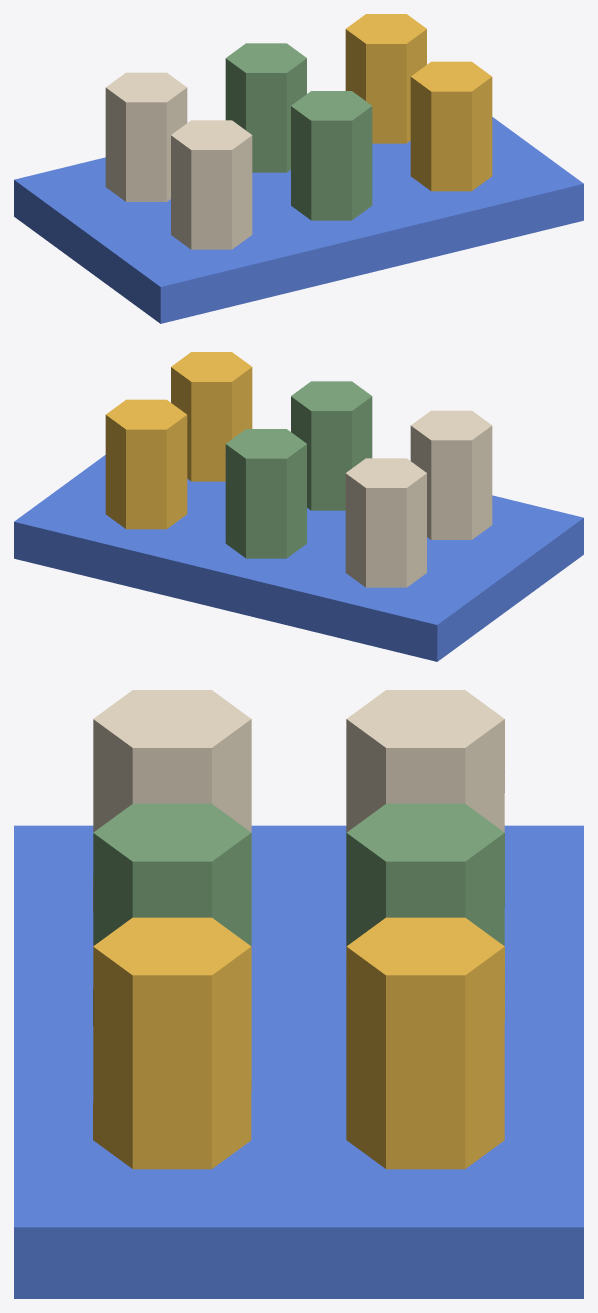
3 renders of one model, top to bottom at view 1: azimuth 30°, elevation 25°; view 2: azimuth 150°, elevation 25°; view 3: azimuth 270°, elevation 25°, orthographic. The views are drawn at different scales.
Visible parts, largest first — view 1: Organizer tray, brochures item.002, brochures item, brochures item.001, brochures item.003, brochures item.004, brochures item.005; view 2: Organizer tray, brochures item.005, brochures item.003, brochures item.004, brochures item, brochures item.001, brochures item.002; view 3: Organizer tray, brochures item.005, brochures item.002, brochures item.001, brochures item.004, brochures item, brochures item.003.
Part boxes in pixels (x1,y1,x2,y2): Organizer tray: (14, 117, 583, 323); brochures item.002: (410, 61, 492, 191); brochures item: (171, 120, 252, 249); brochures item.001: (291, 91, 372, 220); brochures item.003: (105, 72, 187, 201); brochures item.004: (225, 43, 306, 172); brochures item.005: (345, 14, 426, 143); Organizer tray: (14, 455, 583, 661); brochures item.005: (105, 399, 187, 529); brochures item.003: (345, 458, 426, 587); brochures item.004: (225, 429, 306, 558); brochures item: (410, 410, 492, 539); brochures item.001: (291, 381, 372, 510); brochures item.002: (171, 352, 252, 481); Organizer tray: (14, 825, 583, 1298); brochures item.005: (346, 917, 504, 1169); brochures item.002: (93, 917, 251, 1169); brochures item.001: (93, 803, 251, 1025); brochures item.004: (346, 803, 504, 946); brochures item: (93, 690, 251, 912); brochures item.003: (346, 690, 504, 832).
Size of the model in its own units: 60 by 18.5 by 36.
